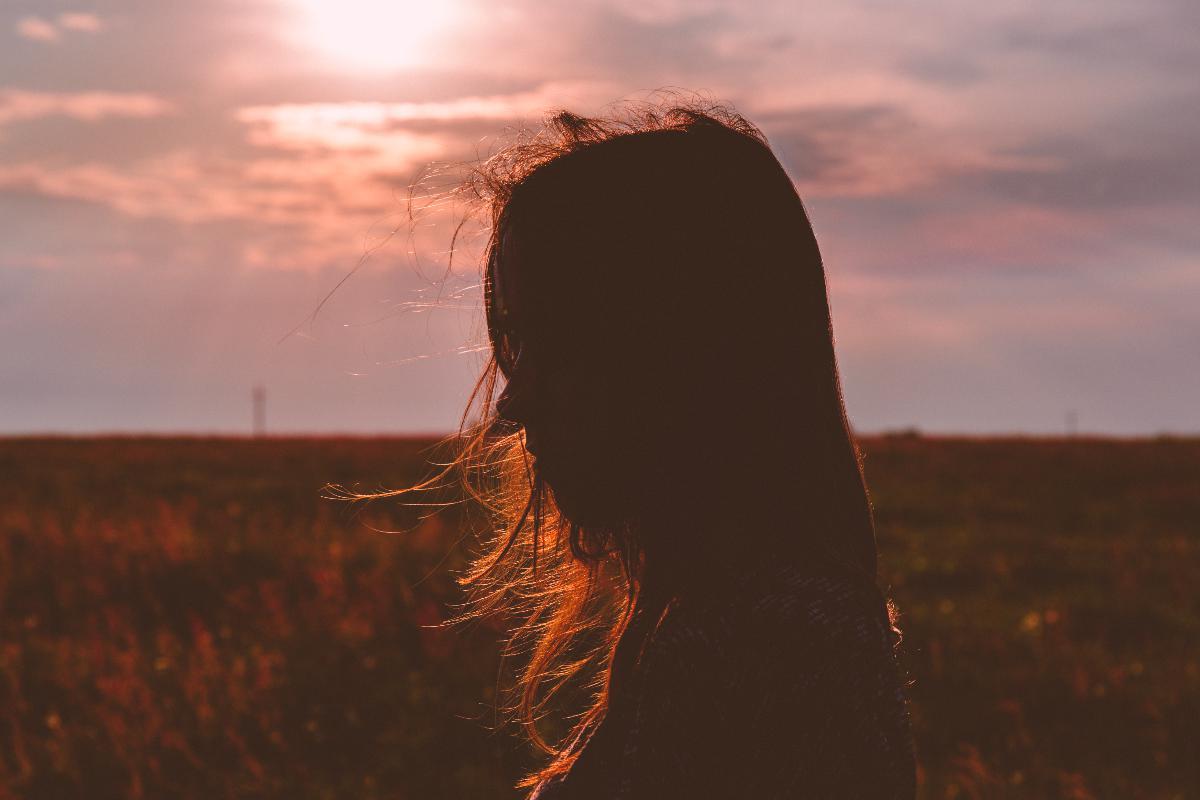Person: (402, 115, 934, 800)
